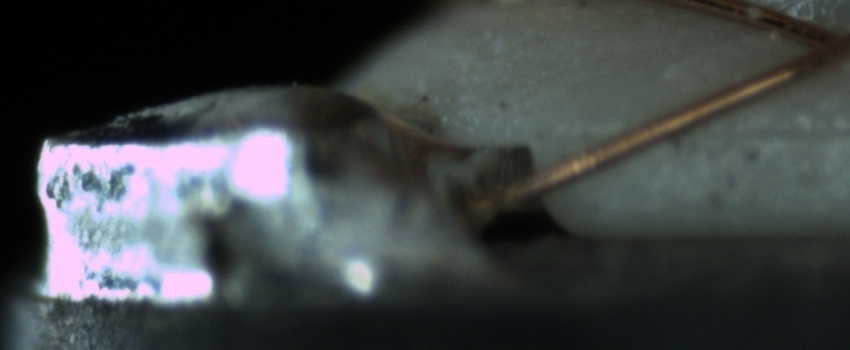CL: (773, 9, 849, 80)
DL: (619, 96, 850, 164)
